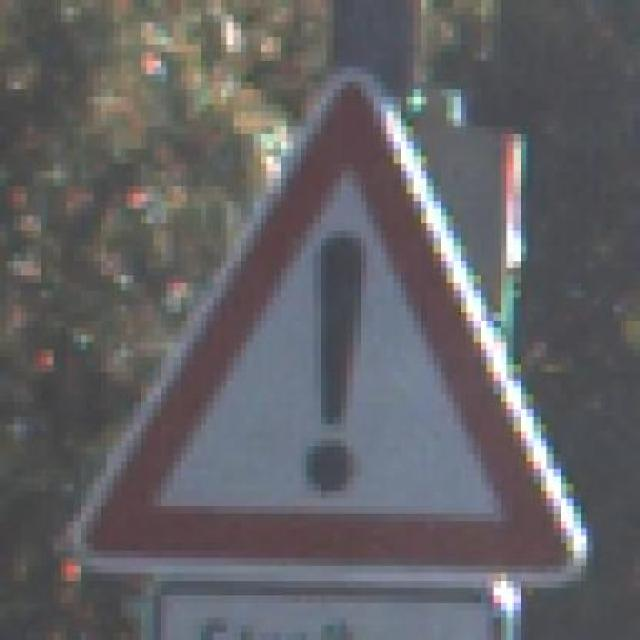Attention Please-: (66, 81, 600, 618)
